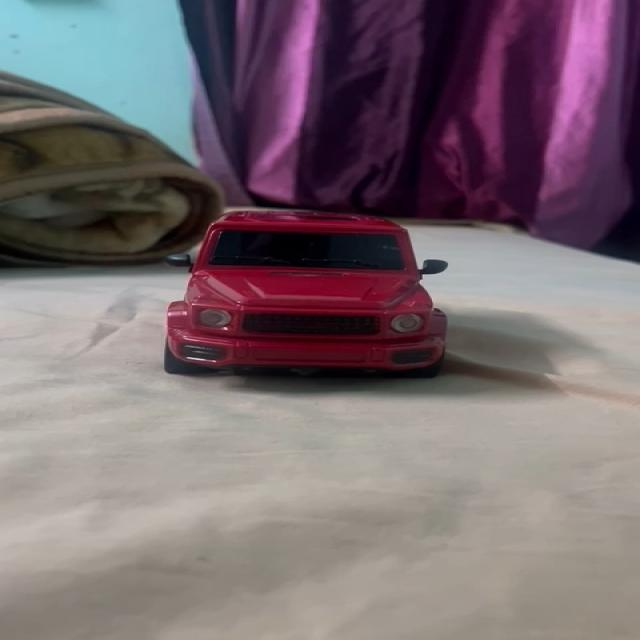light_vehicle: (167, 205, 449, 376)
